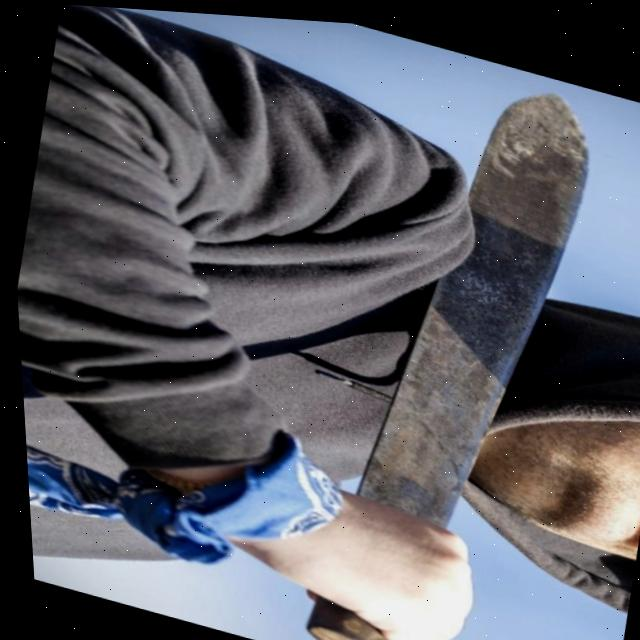long knife: (207, 24, 640, 640), (295, 85, 588, 640)
